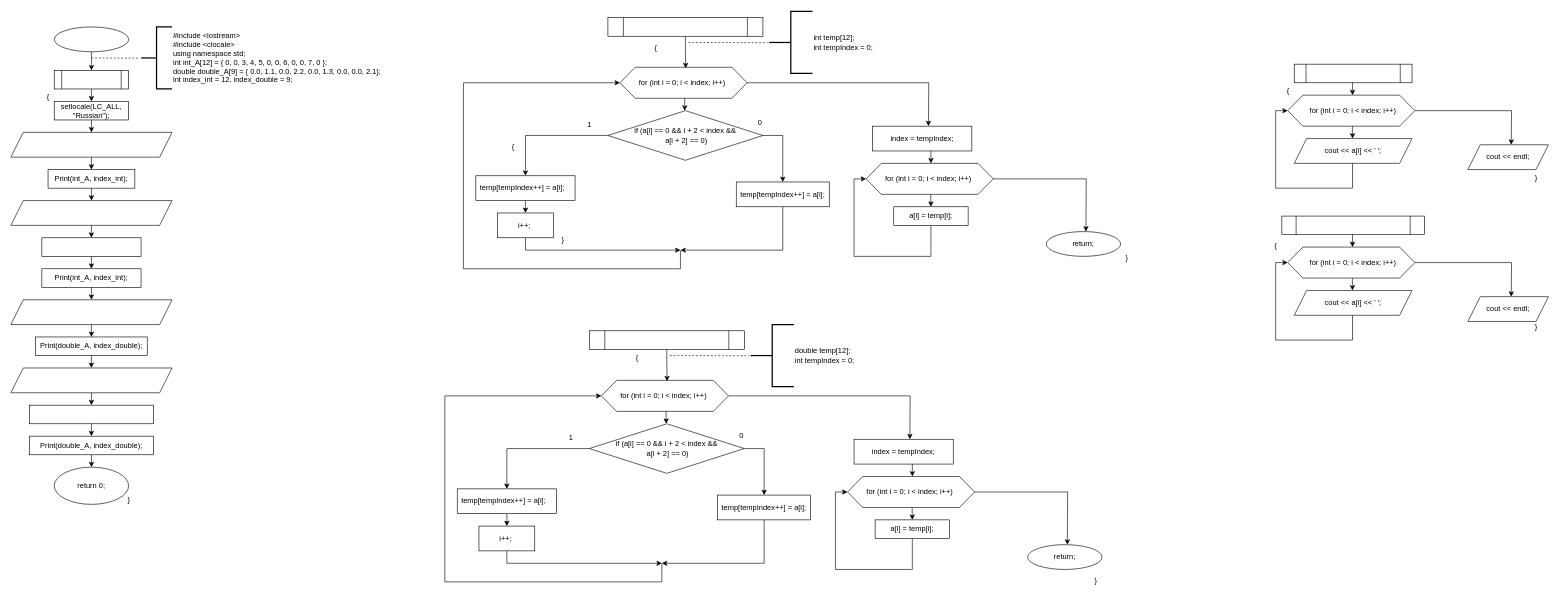
Some shapes in this 1559 by 600 pixel diagram are drawn without their labels. The shapes that lost their labels are listed below. From the top down, each one's centre as x and y in pixels, then its label:
point 91,39: Начало
point 685,26: void Remove(int a[], int& index)
point 91,79: int main()
point 1353,73: void Print(int a[], int index)
point 91,144: cout << "Изначальный массив (int):" << endl;
point 91,212: cout << "Измененный массив (int):" << endl;
point 1352,225: void Print(double a[], int index)
point 91,246: Remove(int_A, index_int);
point 91,312: cout << "Изначальный массив (double):" << endl;
point 666,339: void Remove(double a[], int& index)
point 91,380: cout << "Измененный массив (double):" << endl;
point 91,414: Remove(double_A, index_double);
